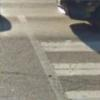crosswalks: (10, 0, 100, 100)
